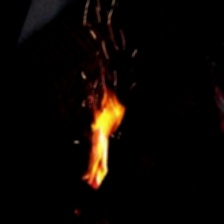fire: (62, 10, 168, 196)
